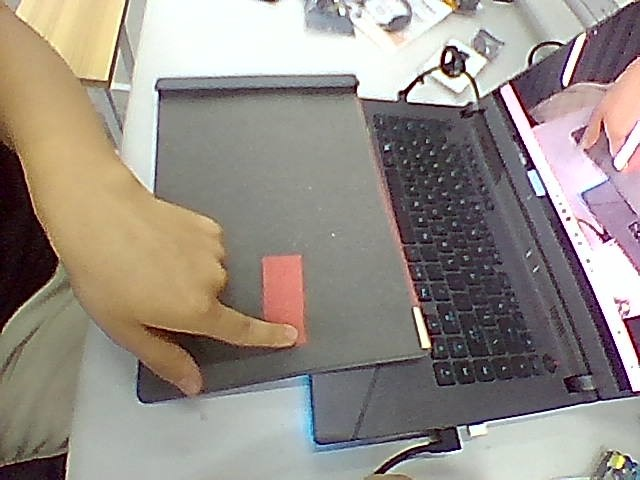card: (263, 257, 306, 344)
